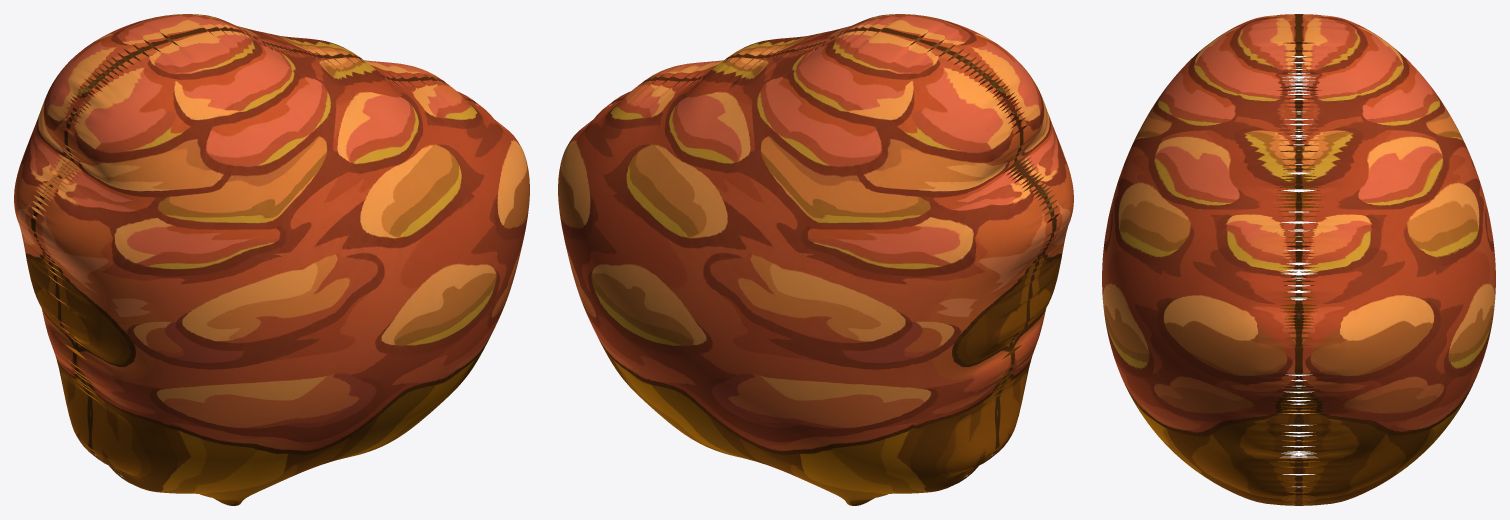
The model's file is orange_ledge.glb.
3 views of the same model, side by side, from view 1: azimuth 30°, elevation 25°; view 2: azimuth 150°, elevation 25°; view 3: azimuth 270°, elevation 25° (orthographic). The views are drawn at different scales.
Visible parts, largest first — view 1: orange_ledge; view 2: orange_ledge; view 3: orange_ledge.
Boxes of the visible parts, x1,y1,x2,y2 form: orange_ledge: (14, 14, 529, 505); orange_ledge: (558, 14, 1073, 505); orange_ledge: (1102, 14, 1495, 505).
Size of the model in its own units: 0.9889 by 0.8943 by 0.7729.
Materials: 1 (1 with a texture image).
